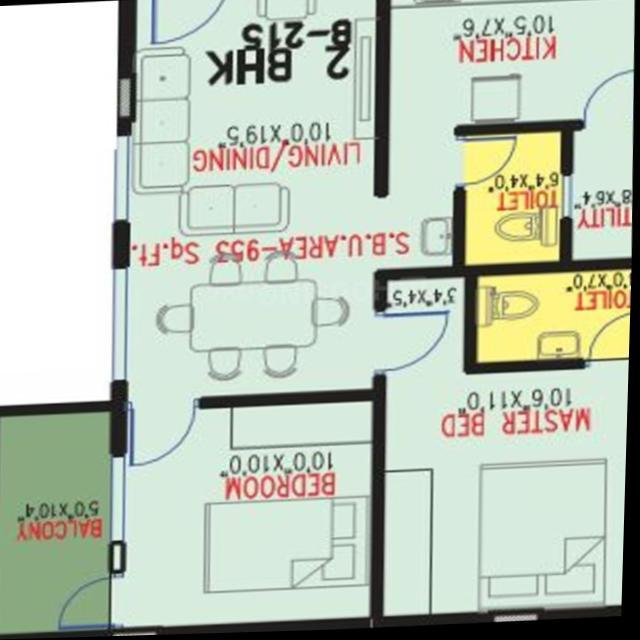Balcony-Sitout: (0, 399, 122, 640)
Bedroom: (114, 392, 386, 637)
Bedroom with Toilet: (383, 266, 633, 627)
Dining: (158, 241, 353, 392)
Kitchen: (381, 0, 634, 142)
Living: (118, 0, 388, 239)
Toilet: (451, 121, 574, 277), (466, 262, 633, 376)
Utility: (559, 122, 634, 275)
